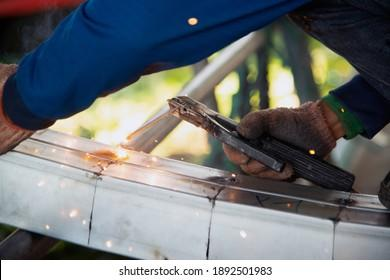gloves: (221, 102, 337, 184), (1, 63, 37, 155)
